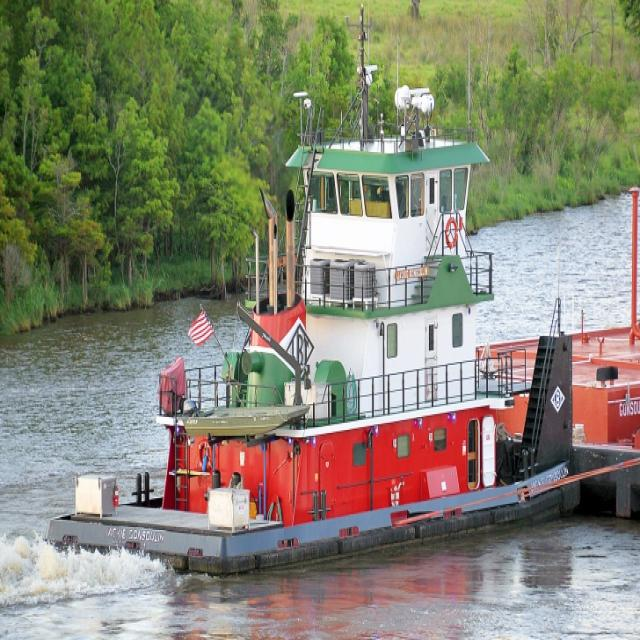tugboat: (37, 61, 588, 585)
